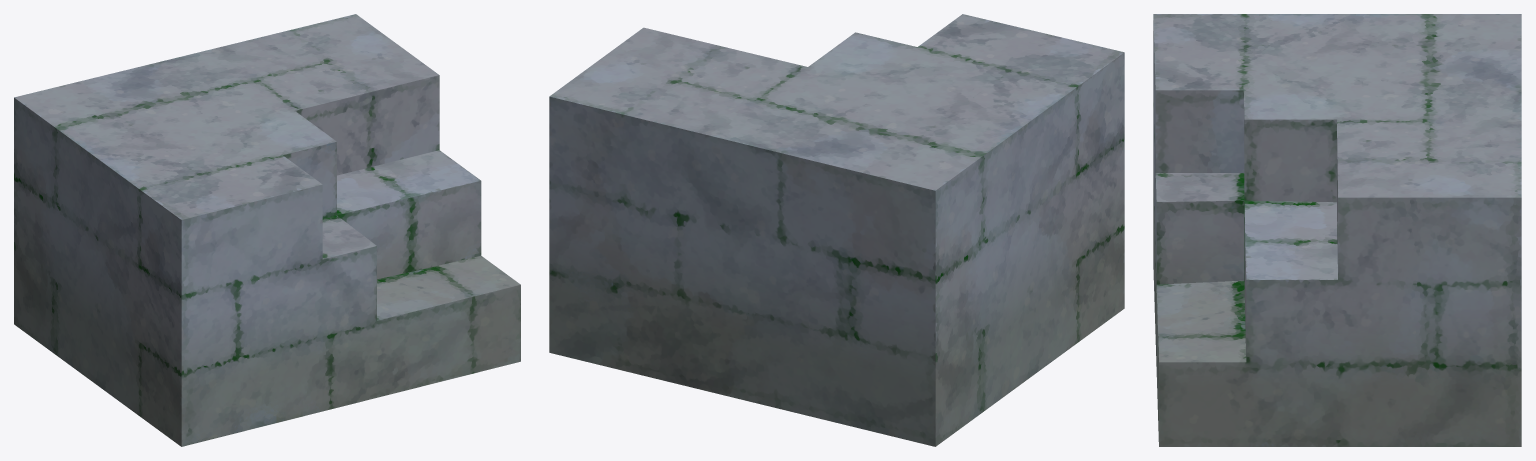
The model's file is Wall_cube_someDamage_Low.fbx.
3 views of the same model, side by side, from view 1: azimuth 30°, elevation 25°; view 2: azimuth 150°, elevation 25°; view 3: azimuth 270°, elevation 25° (orthographic). The views are drawn at different scales.
Visible parts, largest first — view 1: Wall_cube_someDamage_Low; view 2: Wall_cube_someDamage_Low; view 3: Wall_cube_someDamage_Low.
Boxes of the visible parts, left/top/right/bottom form: Wall_cube_someDamage_Low: left=14, top=14, right=520, bottom=446; Wall_cube_someDamage_Low: left=549, top=14, right=1124, bottom=446; Wall_cube_someDamage_Low: left=1153, top=14, right=1521, bottom=446.
Size of the model in its own units: 2.51 by 1.59 by 2.13.
